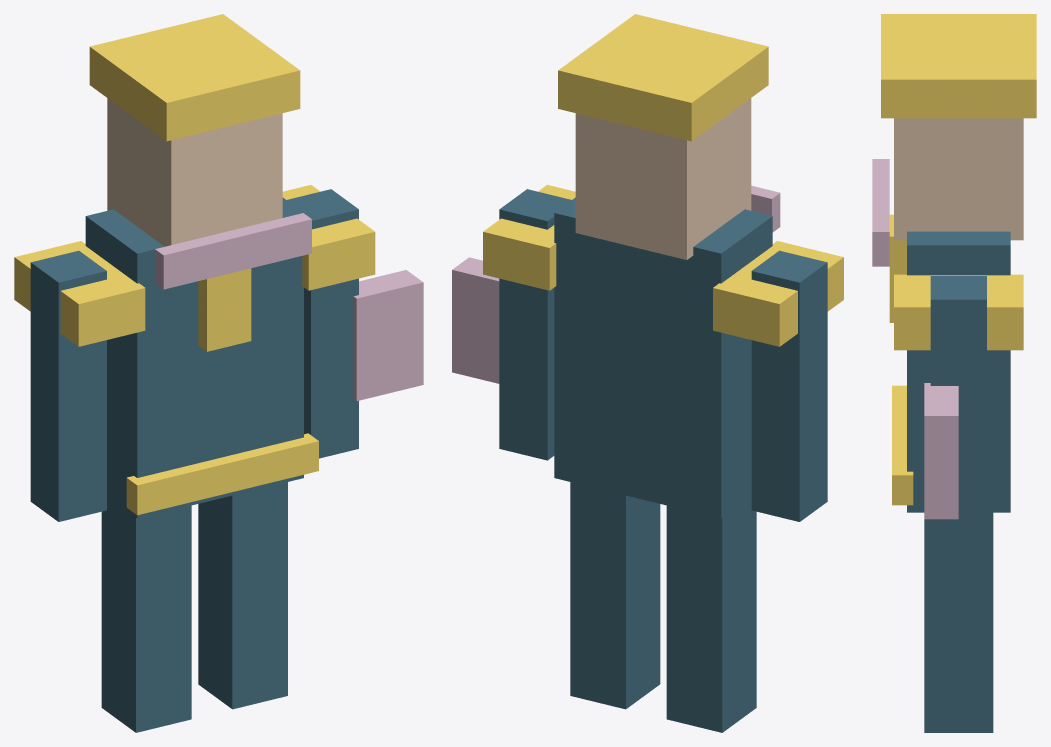
Rendered from 14_soren_deepwell_broker_near_trench.glb.
3 views of the same model, side by side, from view 1: azimuth 30°, elevation 25°; view 2: azimuth 150°, elevation 25°; view 3: azimuth 270°, elevation 25° (orthographic).
Parts seen in each view (by area): view 1: Soren Deepwell, Broker near Trench; view 2: Soren Deepwell, Broker near Trench; view 3: Soren Deepwell, Broker near Trench.
Boxes of the visible parts, x1,y1,x2,y2 form: Soren Deepwell, Broker near Trench: (14,14,423,732); Soren Deepwell, Broker near Trench: (452,14,843,732); Soren Deepwell, Broker near Trench: (872,14,1036,732).
Size of the model in its own units: 0.9111 by 1.55 by 0.3551.
